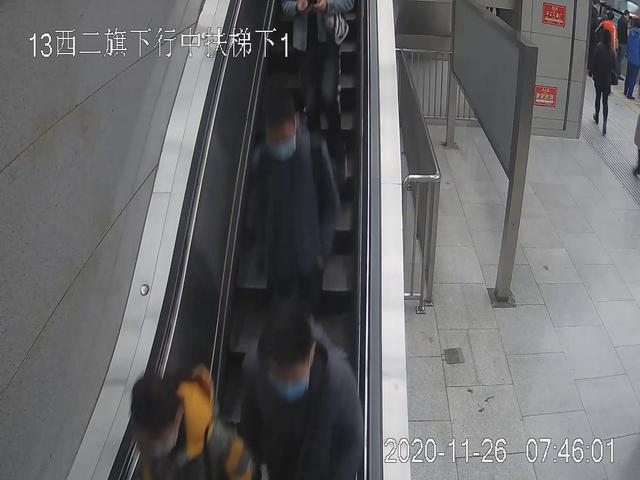person: (252, 100, 340, 395), (243, 311, 359, 480), (589, 29, 617, 134)
